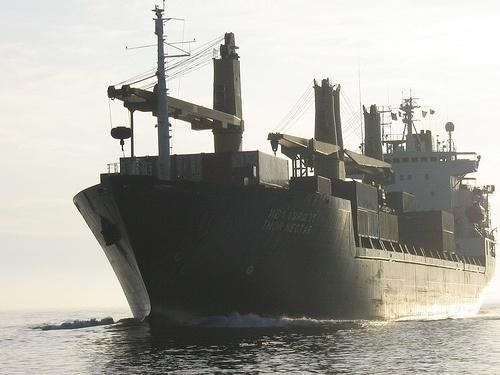boat: (73, 6, 497, 327)
